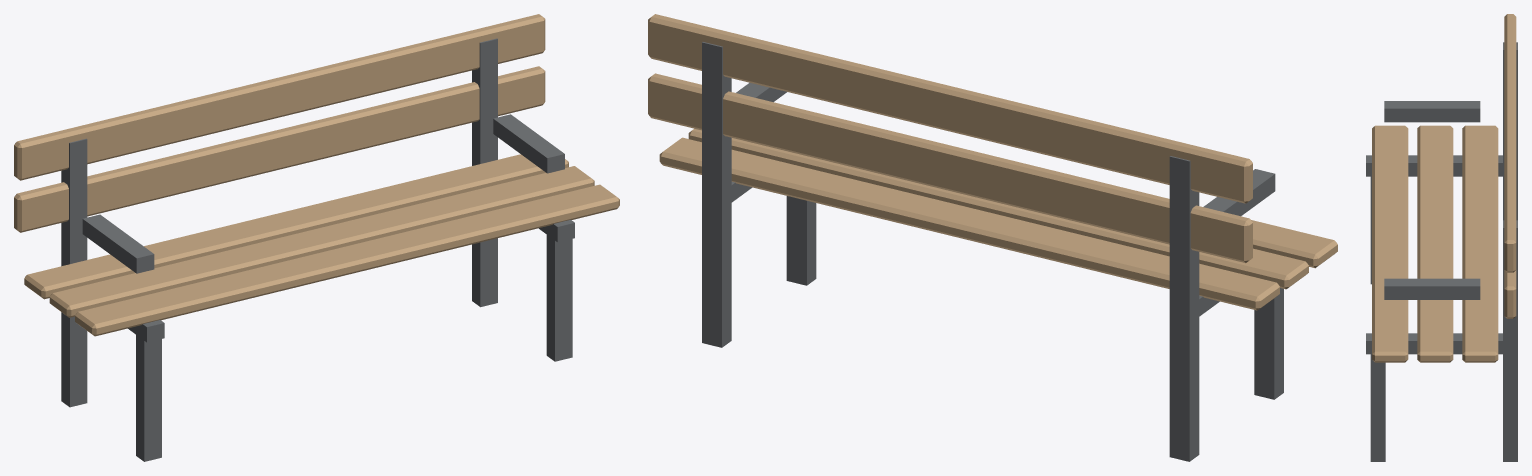
The model's file is bench.glb.
The picture shows the model from 3 angles, left to right: view 1: azimuth 30°, elevation 25°; view 2: azimuth 150°, elevation 25°; view 3: azimuth 270°, elevation 25°; orthographic projection. The views are drawn at different scales.
Visible parts, largest first — view 1: bench; view 2: bench; view 3: bench.
Boxes of the visible parts, bbox=[...] form: bench: bbox=[14, 14, 619, 461]; bench: bbox=[648, 14, 1337, 461]; bench: bbox=[1366, 14, 1517, 461].
Size of the model in its own units: 1.8 by 0.89 by 0.505.
